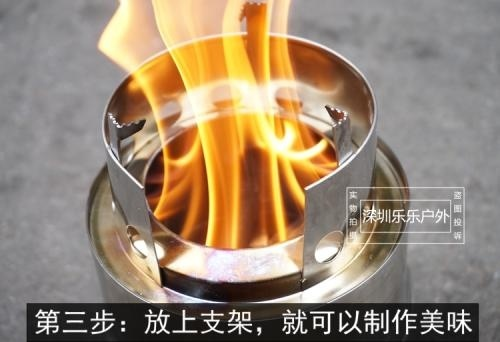fire: (86, 0, 346, 263)
